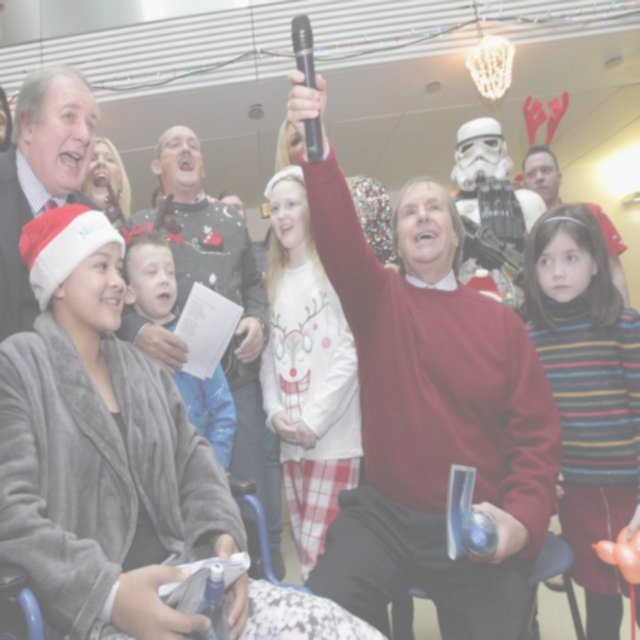pessoa: (0, 202, 389, 639), (280, 66, 564, 640), (120, 123, 270, 580), (514, 200, 640, 640), (255, 159, 367, 591), (124, 230, 238, 474), (0, 64, 102, 335), (514, 140, 632, 312), (444, 115, 546, 302), (194, 185, 268, 280), (268, 80, 328, 184), (77, 135, 132, 220), (0, 57, 17, 186), (148, 182, 165, 212)
